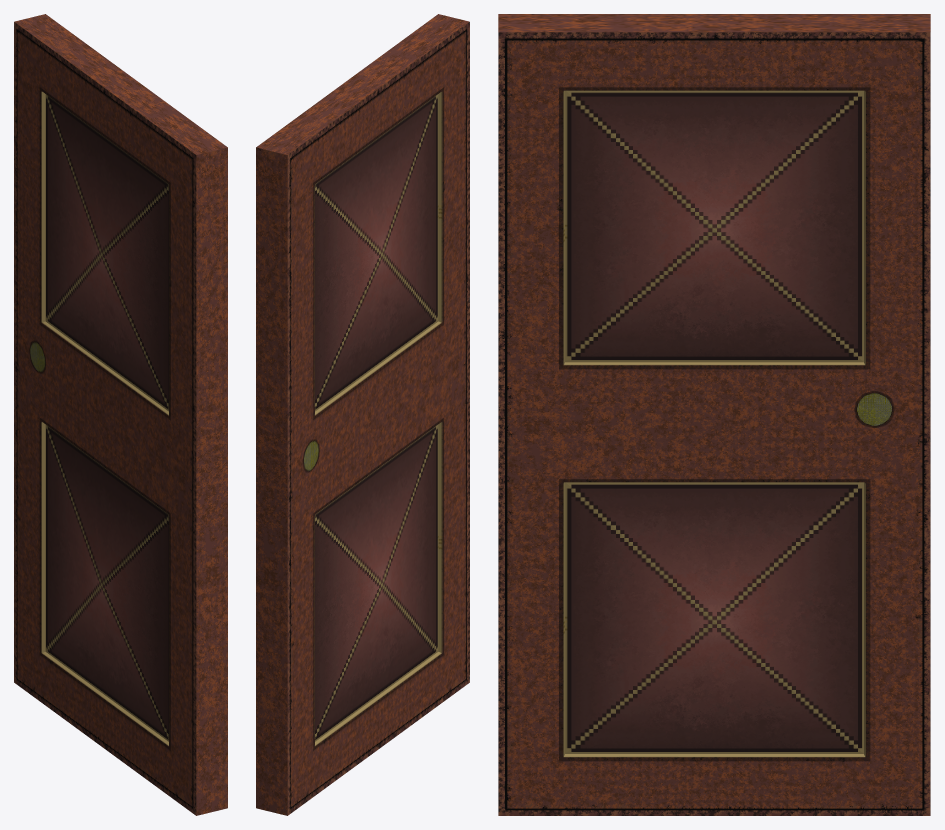
The model's file is doormodel.fbx.
3 views of the same model, side by side, from view 1: azimuth 30°, elevation 25°; view 2: azimuth 150°, elevation 25°; view 3: azimuth 270°, elevation 25° (orthographic). The views are drawn at different scales.
Parts seen in each view (by area): view 1: Plane; view 2: Plane; view 3: Plane.
Part boxes in pixels (x1=…): Plane: x1=14, y1=14, x2=227, y2=815; Plane: x1=256, y1=14, x2=469, y2=815; Plane: x1=498, y1=14, x2=930, y2=815.
Bounding box in the file's own units: 12.14 × 200 × 100.
